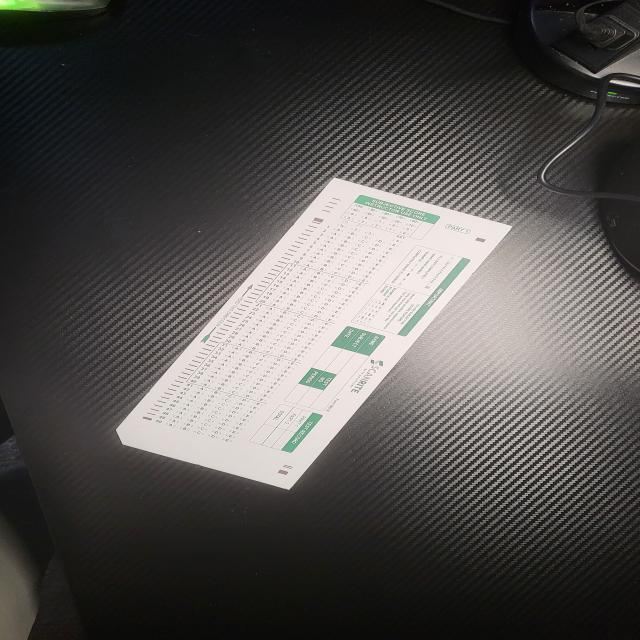scantron: (116, 176, 517, 491)
